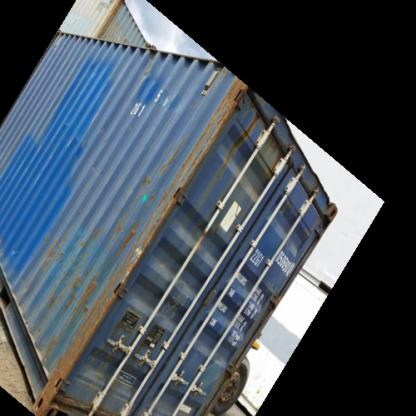Damage: (193, 82, 259, 172), (28, 316, 78, 396), (109, 212, 156, 278), (69, 273, 101, 302), (61, 112, 88, 146), (39, 233, 66, 264), (136, 52, 156, 80), (88, 157, 107, 179)
